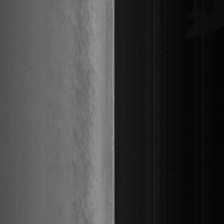silk_spot: (74, 84, 95, 157)
